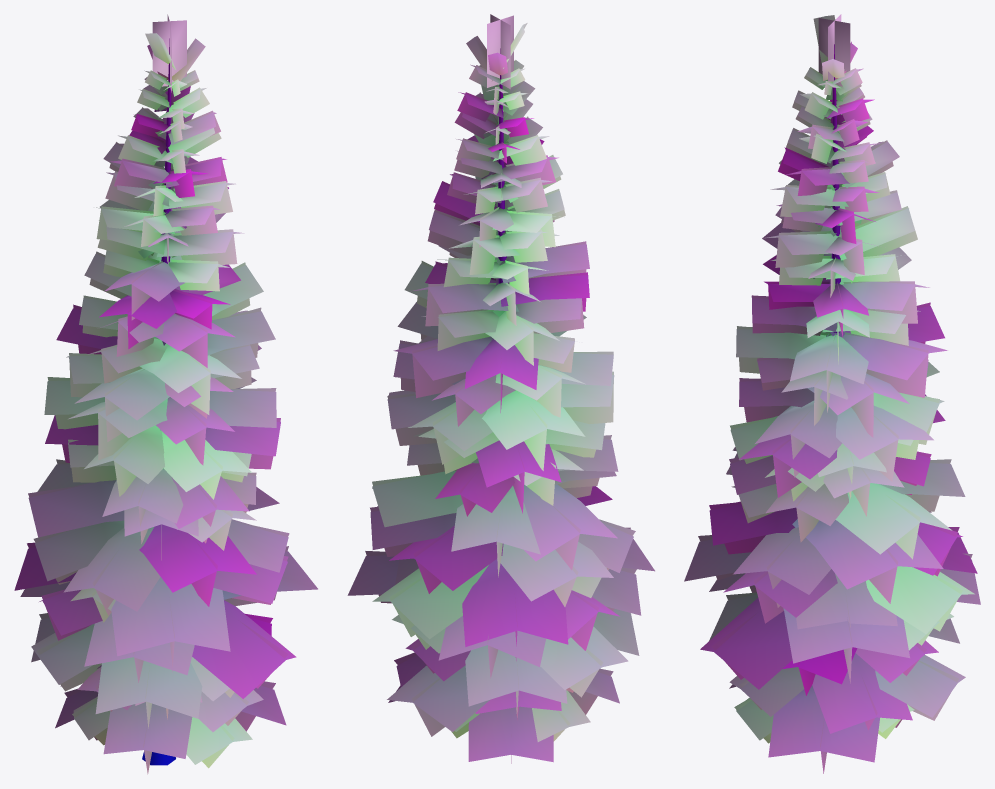
File: pine_a_lod1.glb
3 views of the same model, side by side, from view 1: azimuth 30°, elevation 25°; view 2: azimuth 150°, elevation 25°; view 3: azimuth 270°, elevation 25° (orthographic).
Parts seen in each view (by area): view 1: pine_a_lod1; view 2: pine_a_lod1; view 3: pine_a_lod1.
Boxes of the visible parts, x1=… form: pine_a_lod1: x1=14, y1=14, x2=317, y2=774; pine_a_lod1: x1=347, y1=14, x2=654, y2=763; pine_a_lod1: x1=684, y1=14, x2=980, y2=773.
Size of the model in its own units: 7.15 by 19.8 by 7.3.
